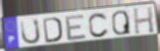C: (87, 11, 110, 38)
D: (42, 16, 64, 44)
E: (65, 13, 88, 42)
H: (132, 5, 156, 35)
Q: (111, 9, 132, 36)
U: (19, 18, 42, 46)
